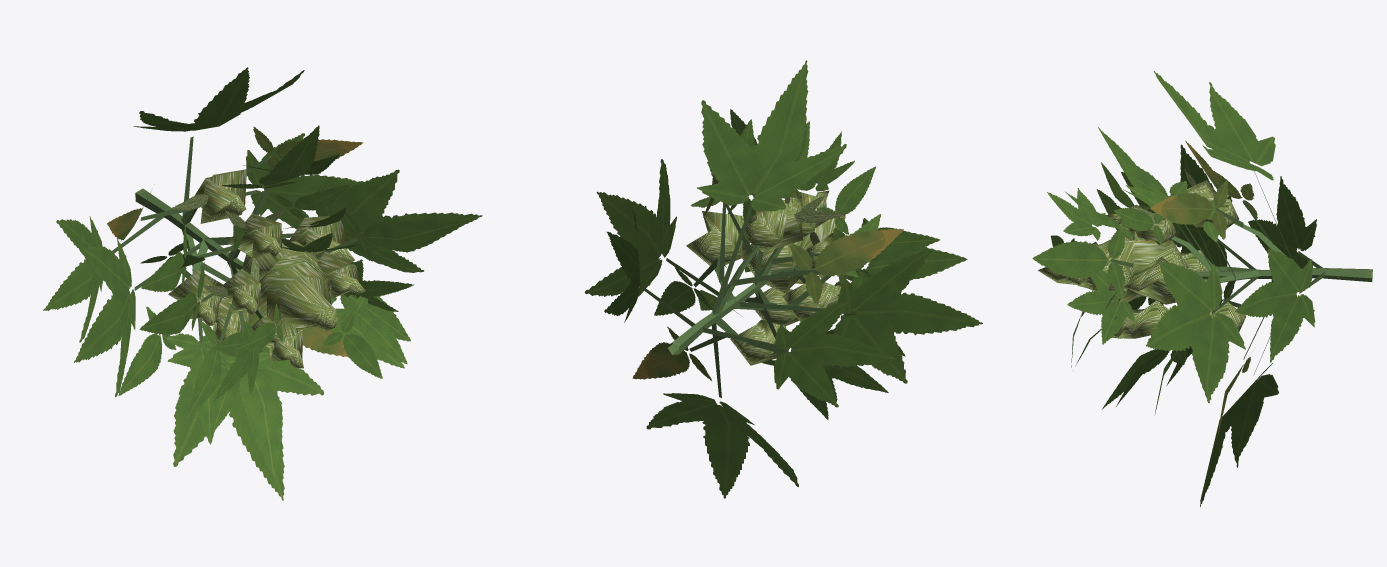
File: p_auto_ripe_c0_cards.obj
The picture shows the model from 3 angles, left to right: view 1: azimuth 30°, elevation 25°; view 2: azimuth 150°, elevation 25°; view 3: azimuth 270°, elevation 25°; orthographic projection. The views are drawn at different scales.
Size of the model in its own units: 1.38 by 1.45 by 0.968.
1 material, 1 textured.
